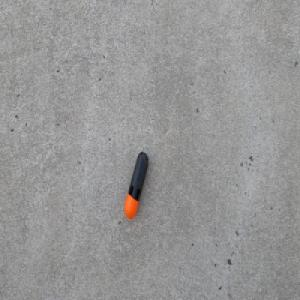PlasticPart: (123, 151, 149, 219)
